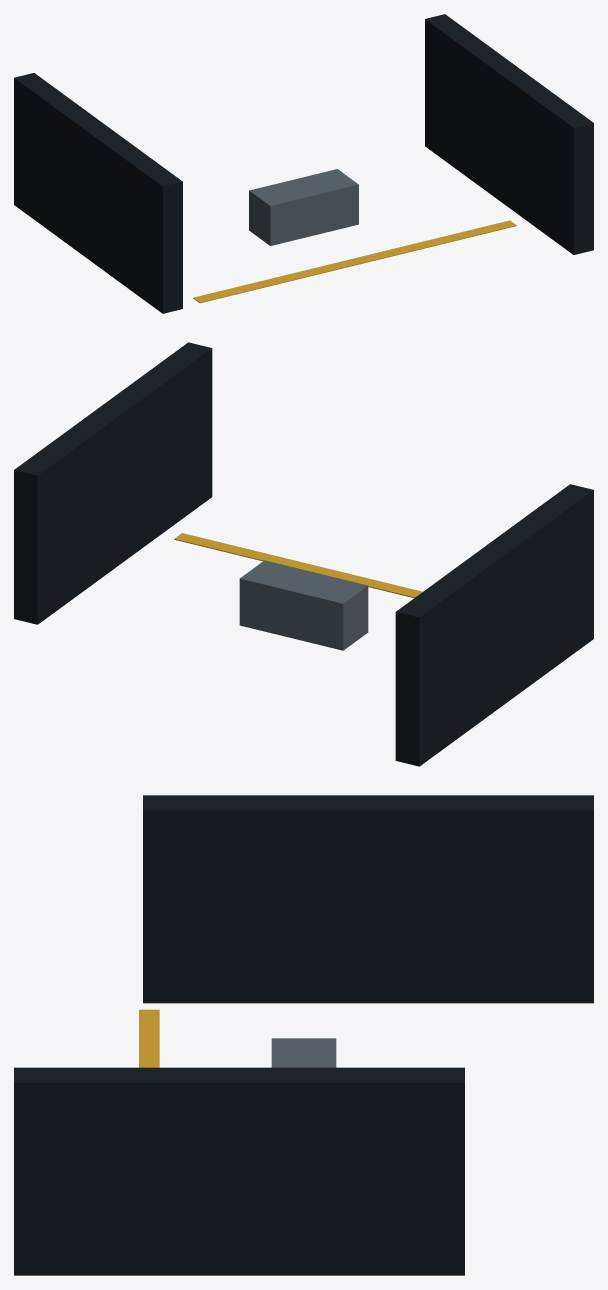
File: module.risky_crossing.glb
3 views of the same model, one above another, from view 1: azimuth 30°, elevation 25°; view 2: azimuth 150°, elevation 25°; view 3: azimuth 270°, elevation 25° (orthographic). The views are drawn at different scales.
Visible parts, largest first — view 1: cross_left_wall, cross_right_wall, mid_low_cover, danger_floor; view 2: cross_left_wall, cross_right_wall, mid_low_cover, danger_floor; view 3: cross_left_wall, cross_right_wall, mid_low_cover, danger_floor.
Part boxes in pixels (<box>): cross_left_wall: <box>14,73,182,313</box>; cross_right_wall: <box>425,14,593,254</box>; mid_low_cover: <box>249,169,358,245</box>; danger_floor: <box>193,220,516,303</box>; cross_left_wall: <box>395,484,593,766</box>; cross_right_wall: <box>14,342,212,624</box>; mid_low_cover: <box>239,560,368,650</box>; danger_floor: <box>174,533,422,597</box>; cross_left_wall: <box>143,795,593,1003</box>; cross_right_wall: <box>14,1067,464,1275</box>; mid_low_cover: <box>271,1038,336,1067</box>; danger_floor: <box>139,1009,159,1067</box>.
Bounding box in the file's own units: 10.55 × 3.3 × 9.
